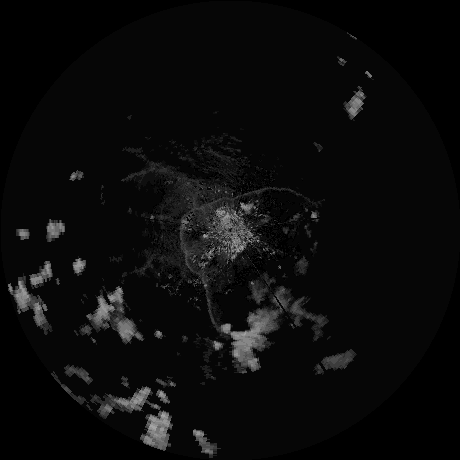frontgust: (177, 226, 221, 331), (185, 187, 307, 223)
